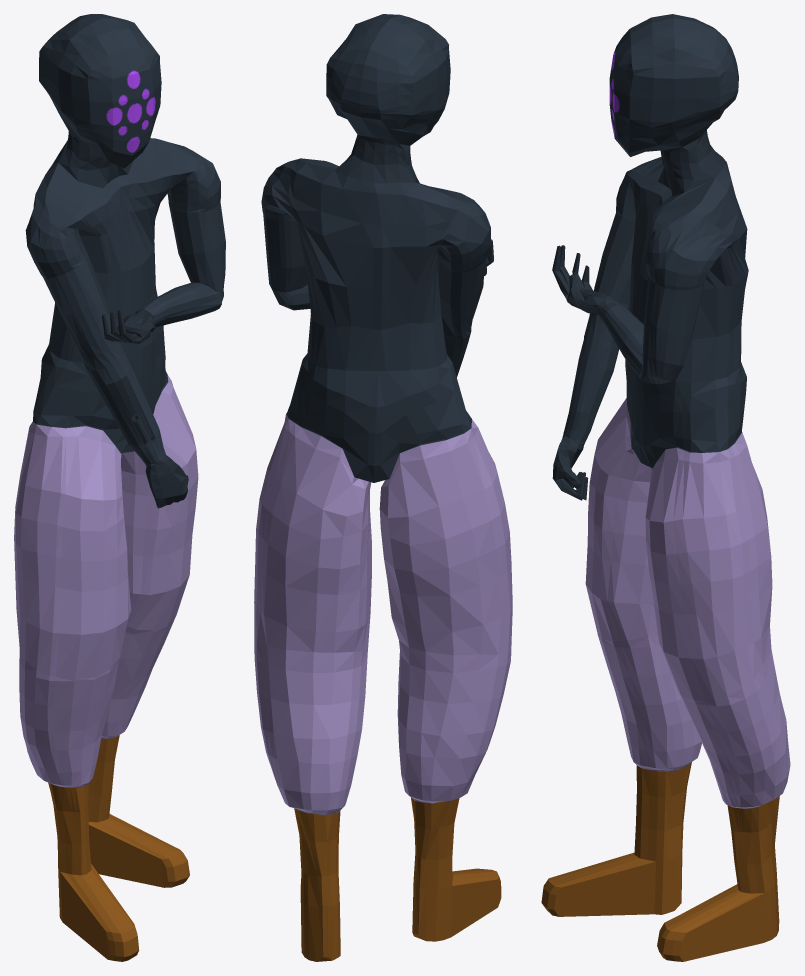
File: Oracle_Reload_000018.obj
The picture shows the model from 3 angles, left to right: view 1: azimuth 30°, elevation 25°; view 2: azimuth 150°, elevation 25°; view 3: azimuth 270°, elevation 25°; orthographic projection. The views are drawn at different scales.
Parts seen in each view (by area): view 1: Cube; view 2: Cube; view 3: Cube.
Boxes of the visible parts, bbox=[...] form: Cube: bbox=[14, 14, 225, 961]; Cube: bbox=[254, 14, 512, 961]; Cube: bbox=[541, 14, 790, 961].
Bounding box in the file's own units: 0.989 × 3.94 × 0.9762.
